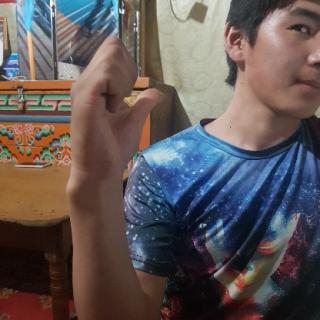WAW: (62, 32, 172, 189)
